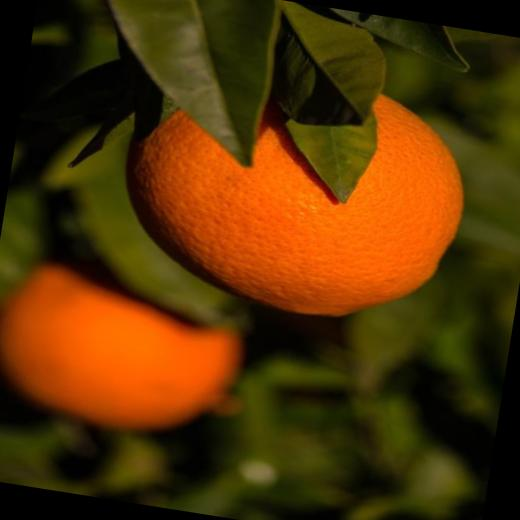Grape: (119, 54, 472, 332), (0, 255, 243, 435)
